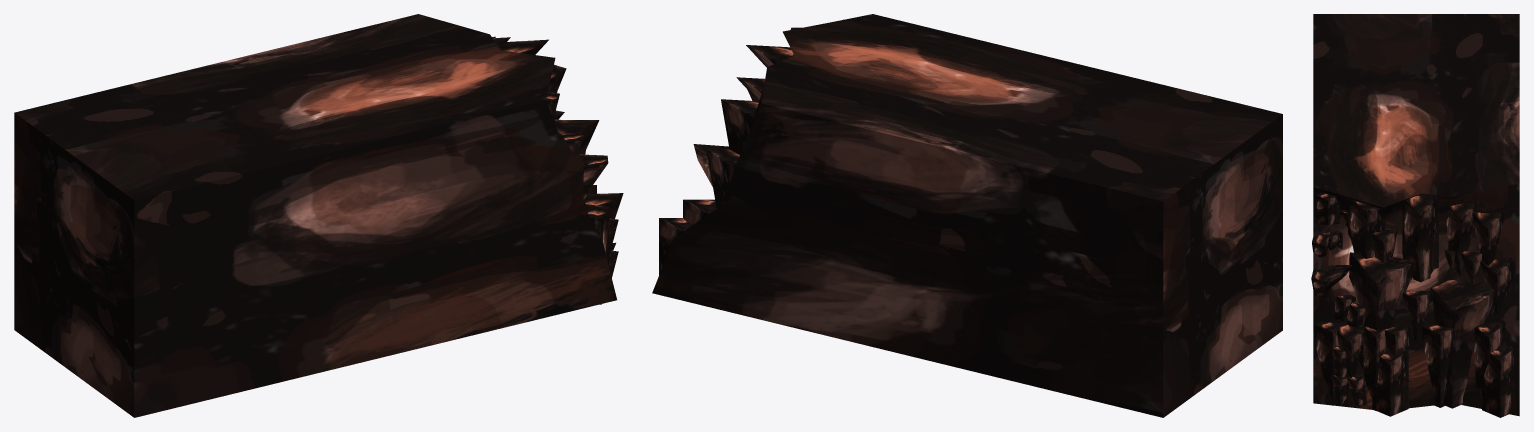
File: model_cliff.fbx
3 renders of one model, left to right at view 1: azimuth 30°, elevation 25°; view 2: azimuth 150°, elevation 25°; view 3: azimuth 270°, elevation 25°, orthographic. The views are drawn at different scales.
Visible parts, largest first — view 1: pCube1, pCube3, pCube9, pCube20, pCube16, pCube26; view 2: pCube1, pCube24, pCube10, pCube29, pCube28, pCube26; view 3: pCube1, pCube6, pCube3, pCube26, pCube30, pCube29, pCube7, pCube31, pCube25, pCube28, pCube9, pCube24 (+16 smaller).
Boxes of the visible parts, <box> form: pCube1: <box>14,14,616,417</box>; pCube3: <box>555,119,599,154</box>; pCube9: <box>585,204,609,304</box>; pCube20: <box>578,154,608,198</box>; pCube16: <box>585,193,623,218</box>; pCube26: <box>495,39,548,54</box>; pCube1: <box>652,14,1282,417</box>; pCube24: <box>721,99,758,154</box>; pCube10: <box>706,148,739,208</box>; pCube29: <box>659,218,692,274</box>; pCube28: <box>683,199,716,224</box>; pCube26: <box>746,45,793,67</box>; pCube1: <box>1313,14,1519,416</box>; pCube6: <box>1430,280,1495,408</box>; pCube3: <box>1349,252,1413,330</box>; pCube26: <box>1402,194,1438,282</box>; pCube30: <box>1372,350,1408,416</box>; pCube29: <box>1482,345,1515,417</box>; pCube7: <box>1422,324,1454,407</box>; pCube31: <box>1348,200,1384,258</box>; pCube25: <box>1446,201,1478,276</box>; pCube28: <box>1473,321,1506,396</box>; pCube9: <box>1314,321,1344,405</box>; pCube24: <box>1472,210,1506,265</box>.
Bounding box in the file's own units: 19.75 × 7.97 × 8.01.
1 material, 1 textured.
